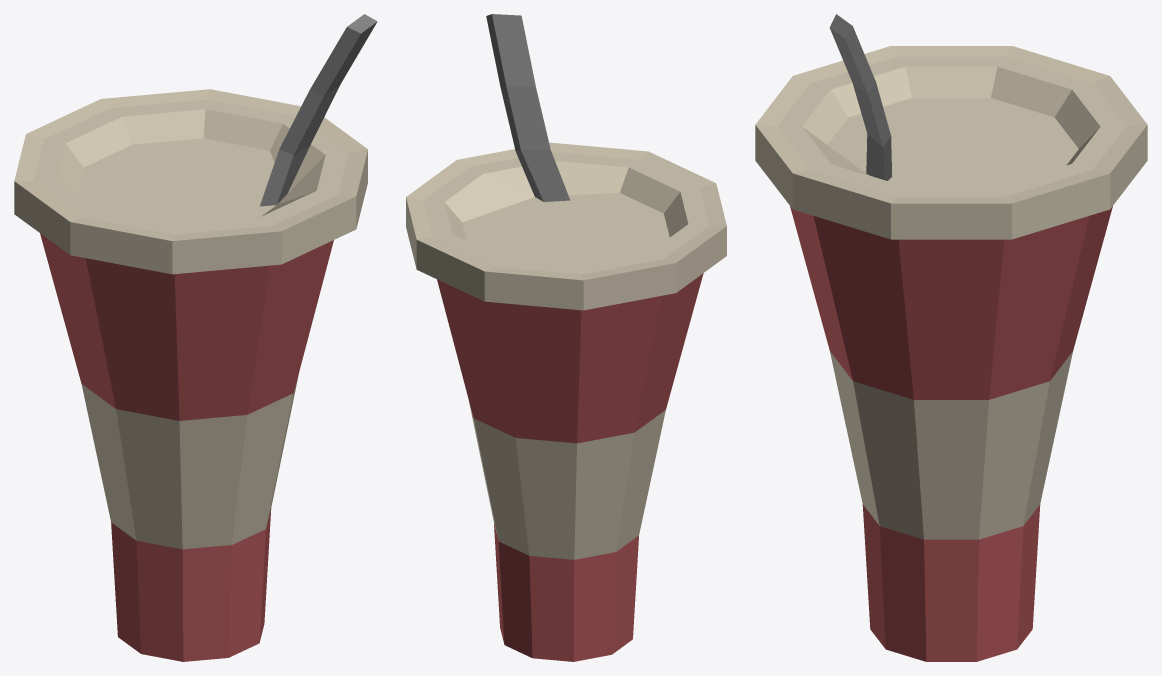
The model's file is building2.fbx.
3 renders of one model, left to right at view 1: azimuth 30°, elevation 25°; view 2: azimuth 150°, elevation 25°; view 3: azimuth 270°, elevation 25°, orthographic. The views are drawn at different scales.
Visible parts, largest first — view 1: red/white building; view 2: red/white building; view 3: red/white building.
Part boxes in pixels (left/top/right/bottom): red/white building: left=14, top=14, right=377, bottom=661; red/white building: left=406, top=14, right=726, bottom=661; red/white building: left=755, top=14, right=1147, bottom=661.
Size of the model in its own units: 1616 by 3206 by 1699.
